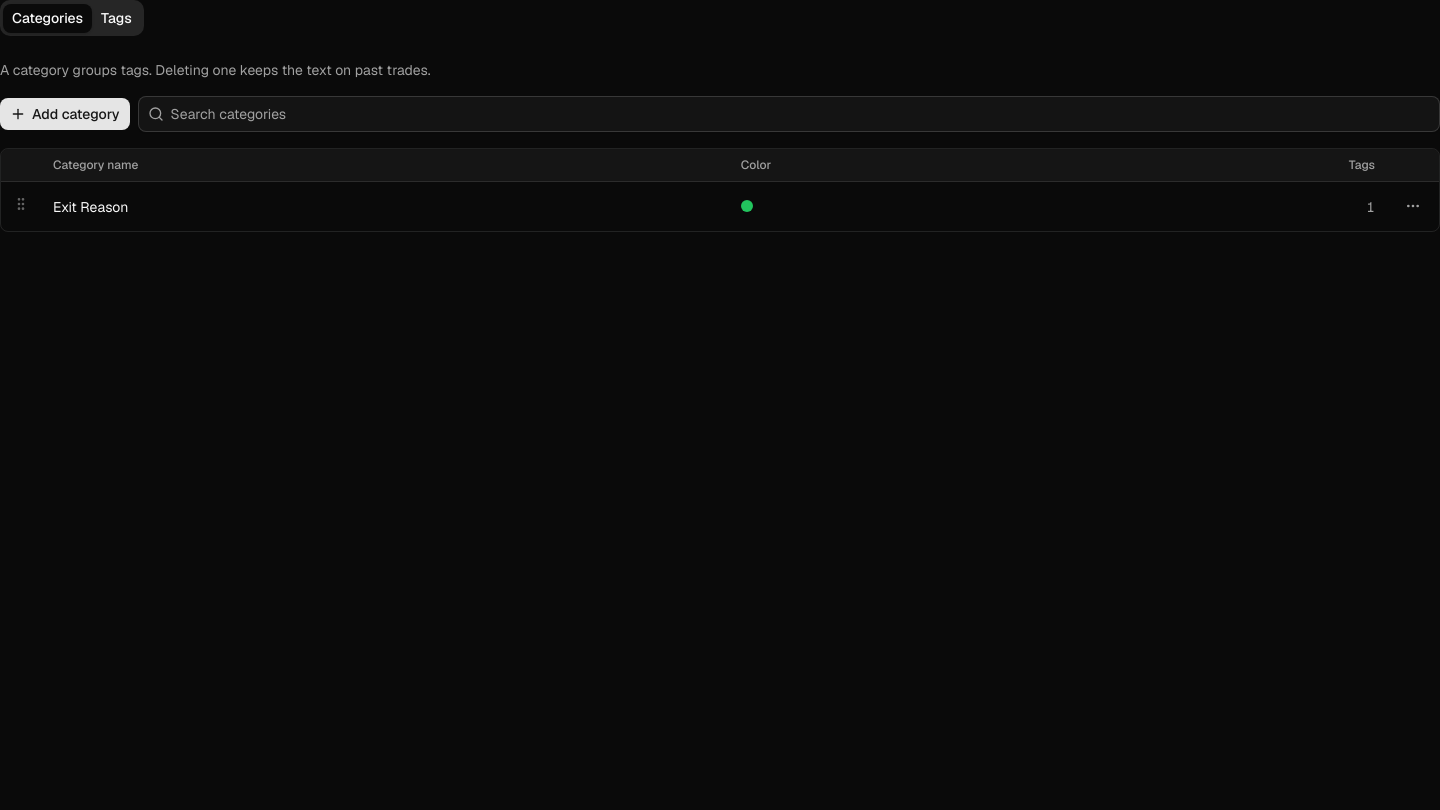
Test: deleting a category › refuses outright when a built-in field reads it
This screenshot has width=1440, height=810.
Click the button named "Options for Exit Reason" at (1413, 206), box [1399,192,1427,220]
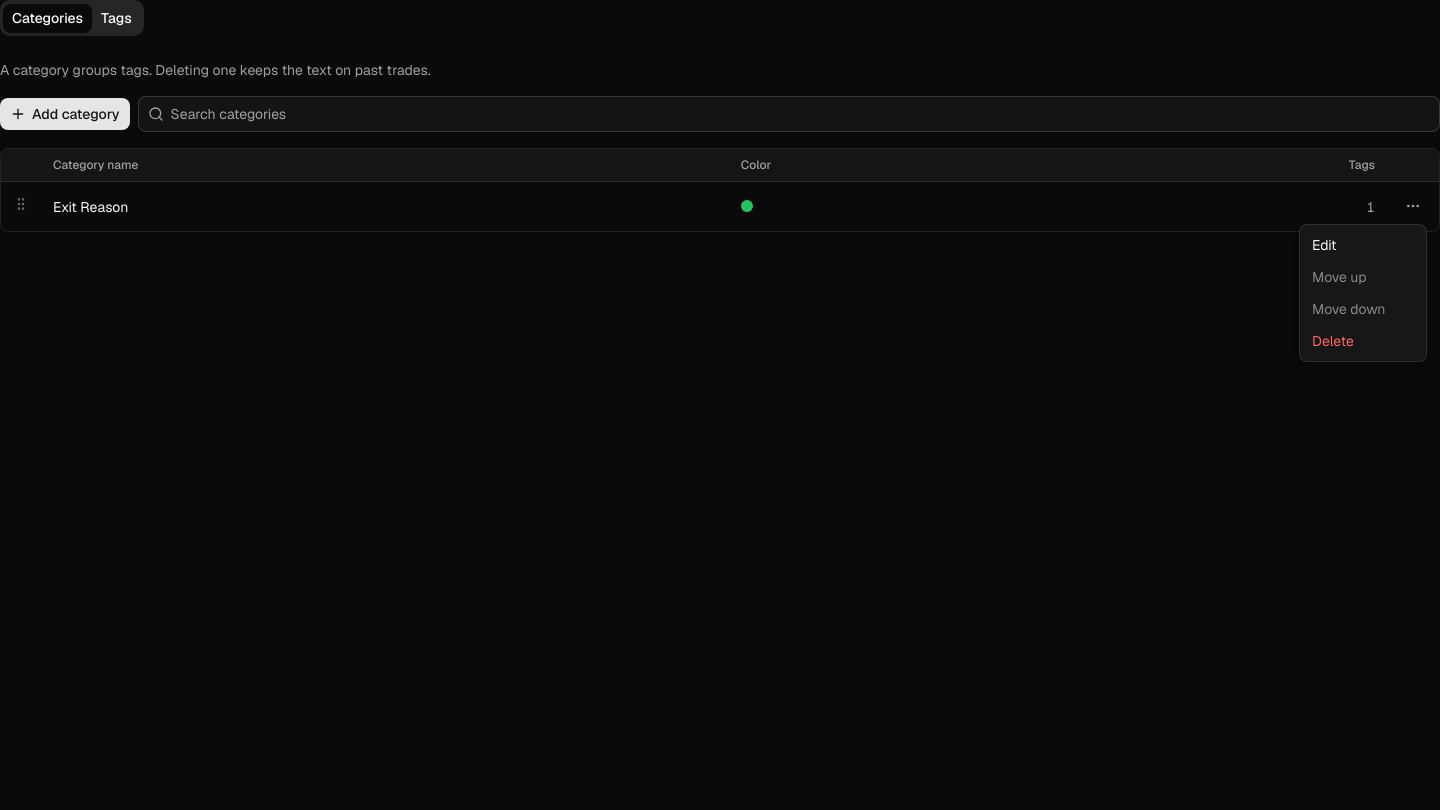
Click the menu item "Delete" at (1333, 341), box [1312,332,1354,350]
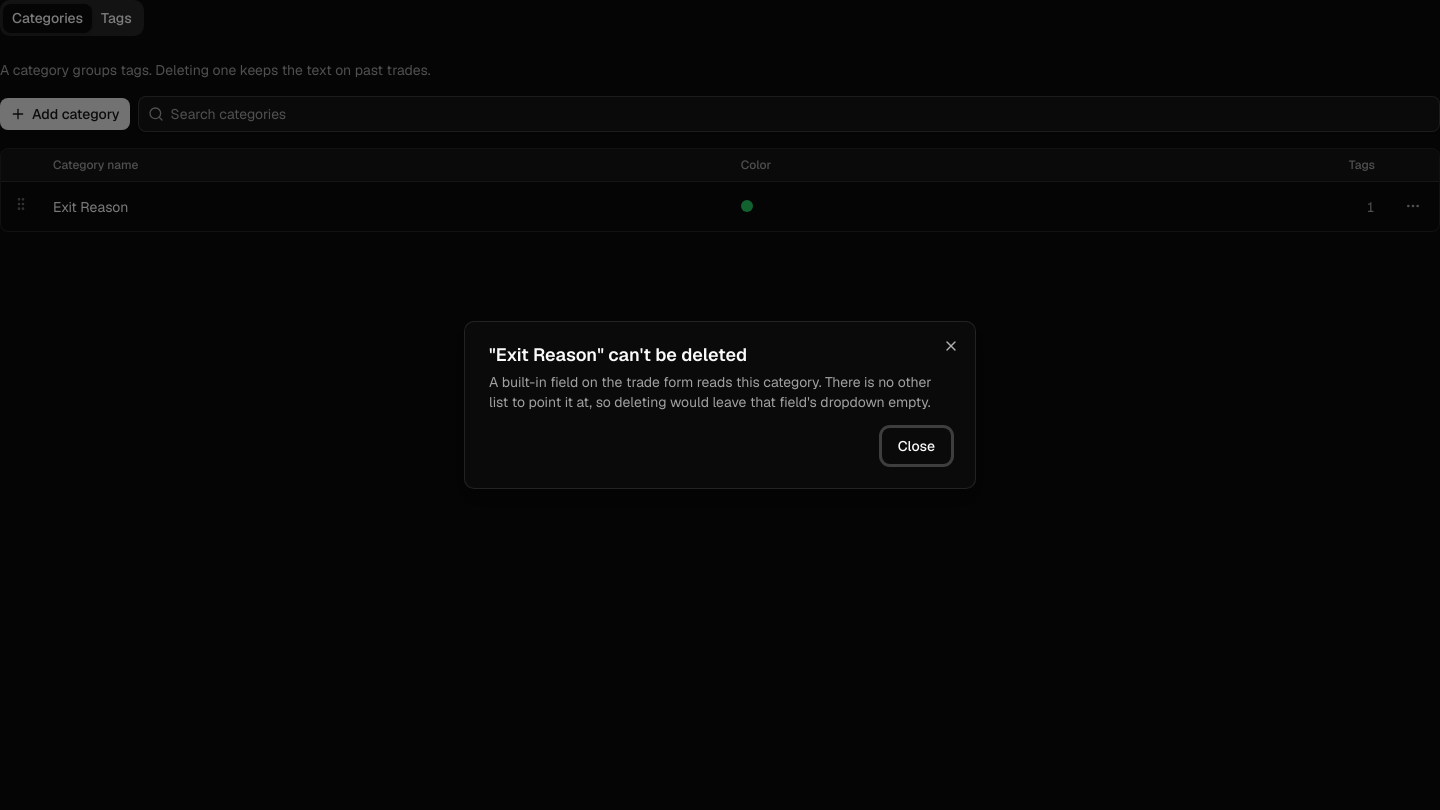
Check: the heading "\"Exit Reason\" can't be deleted" is shown, box [489,343,747,366]
